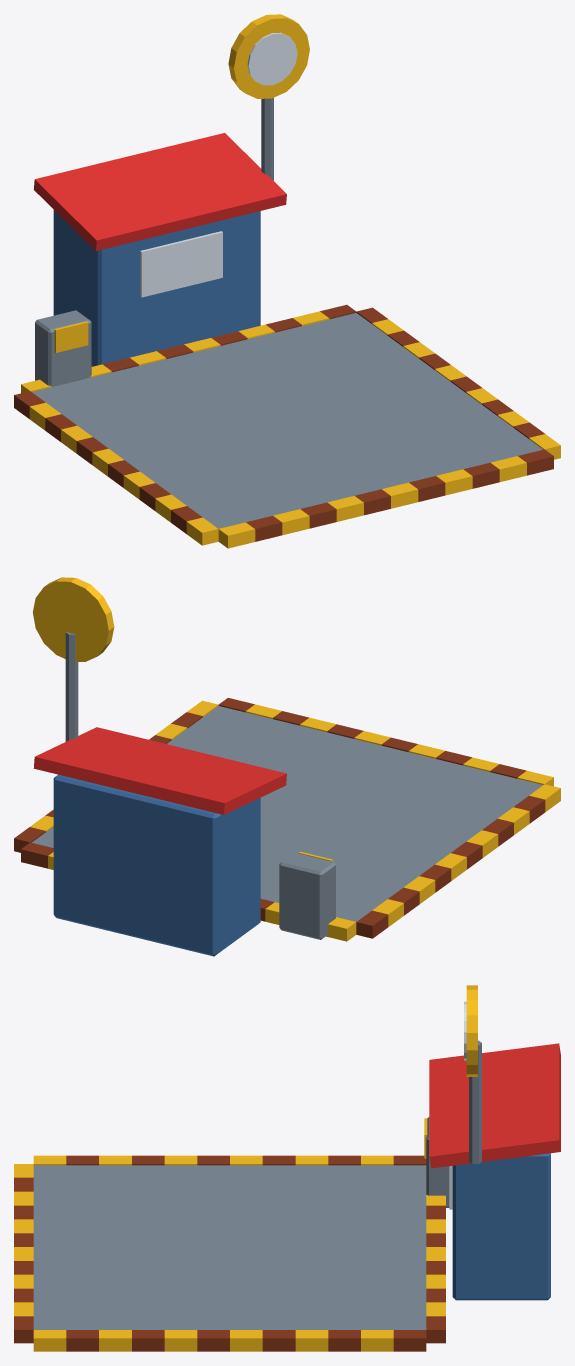
File: prop_sell_station.fbx
3 renders of one model, top to bottom at view 1: azimuth 30°, elevation 25°; view 2: azimuth 150°, elevation 25°; view 3: azimuth 270°, elevation 25°, orthographic. The views are drawn at different scales.
Visible parts, largest first — view 1: prop_sell_station; view 2: prop_sell_station; view 3: prop_sell_station.
Boxes of the visible parts, <box> form: prop_sell_station: <box>14,14,560,548</box>; prop_sell_station: <box>14,577,560,956</box>; prop_sell_station: <box>14,985,560,1351</box>.
Size of the model in its own units: 13.2 by 10.8 by 16.71.
